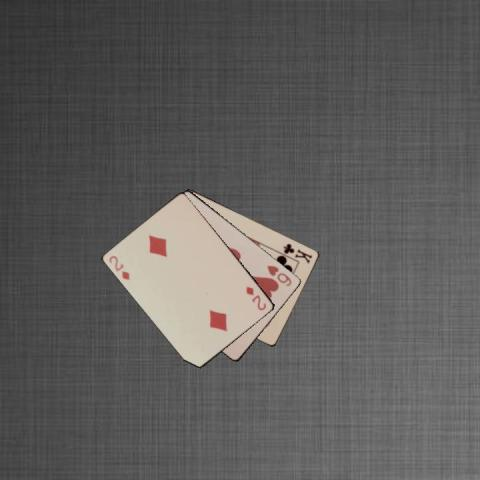2d: (243, 283, 268, 312), (106, 253, 131, 281)
6h: (264, 262, 293, 288)
Kc: (281, 240, 313, 265)
